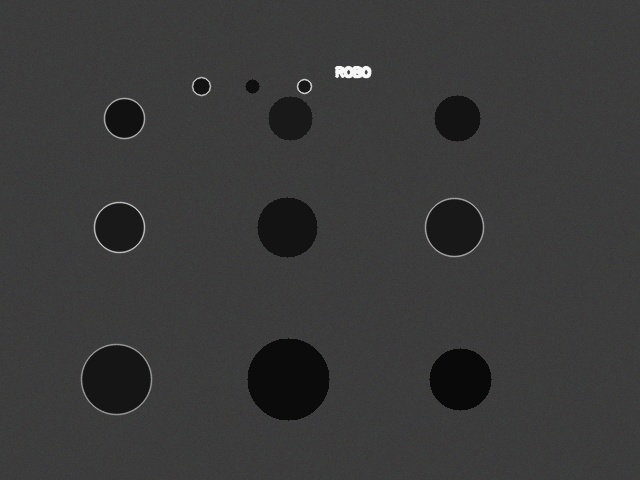hole: (247, 338, 329, 420), (81, 344, 151, 414), (429, 348, 491, 410), (257, 197, 317, 257), (425, 198, 483, 256), (94, 202, 144, 252), (434, 95, 480, 141), (268, 96, 312, 140), (104, 98, 144, 138), (192, 77, 210, 95), (245, 79, 259, 93), (297, 79, 311, 93)
